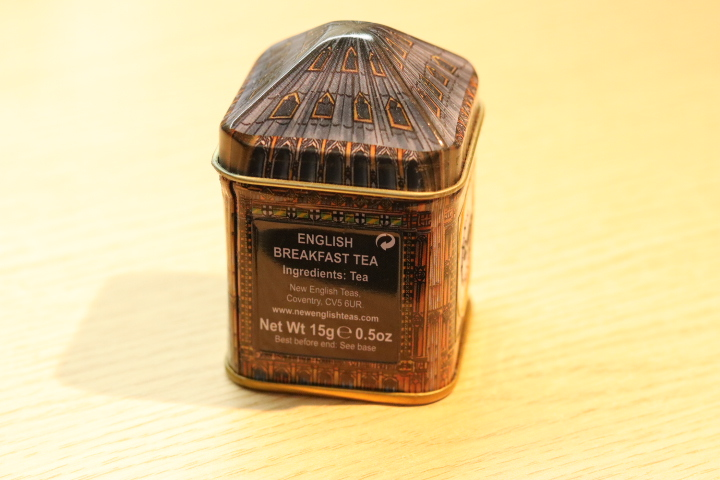Big Ben: (189, 4, 534, 427)
